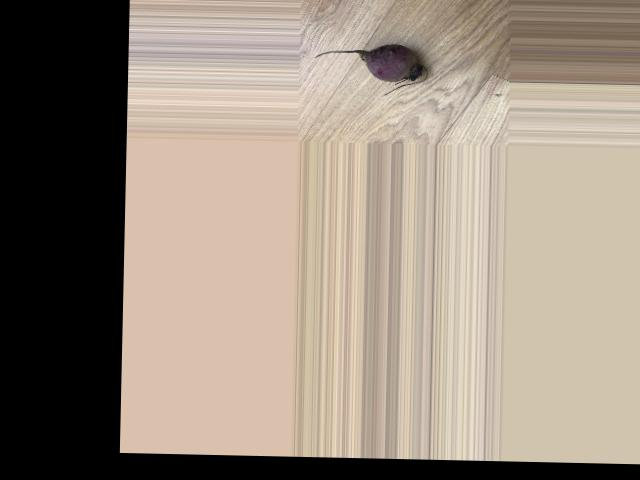beet: (313, 41, 428, 95)
